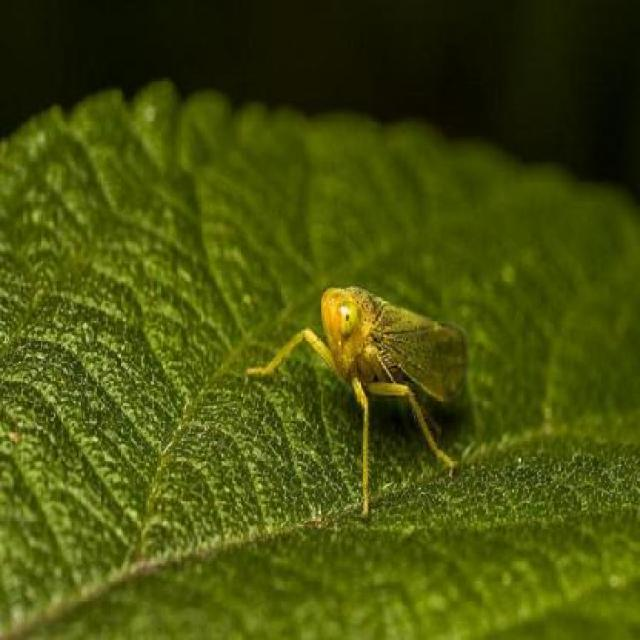green-leafhopper: (248, 285, 472, 517)
